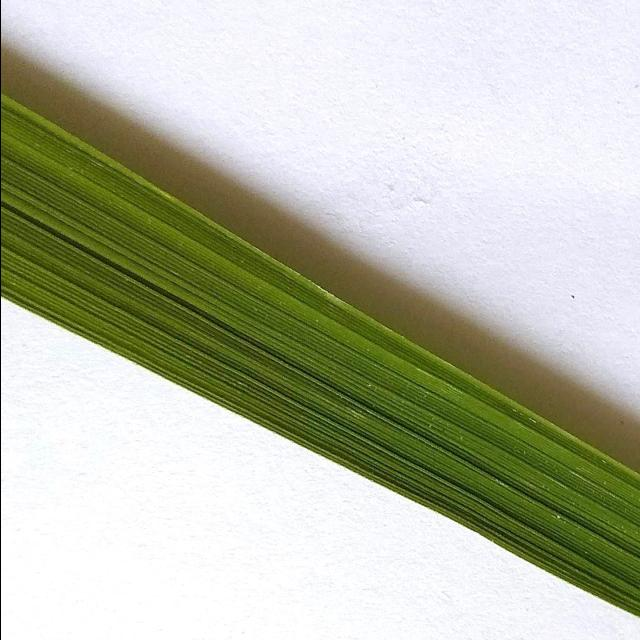healthy: (0, 50, 640, 640)
